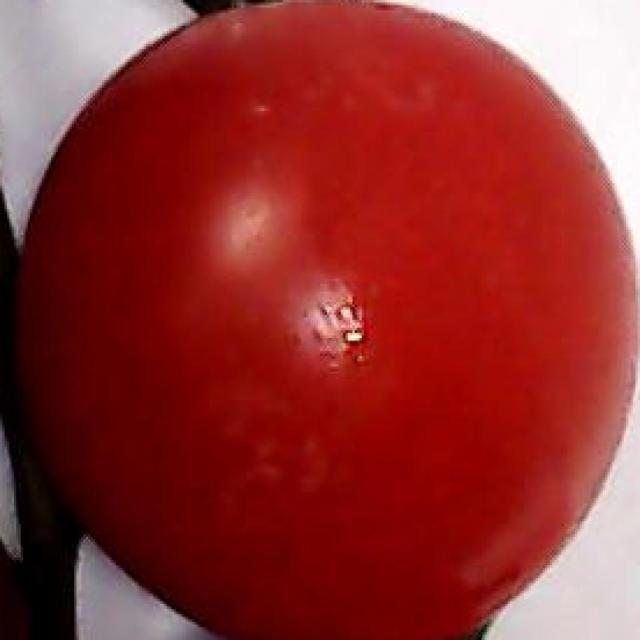Healthy Fruit: (27, 8, 426, 421)
